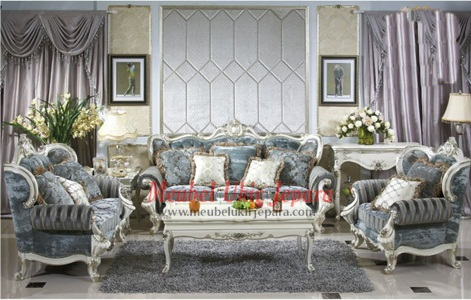Carving Chair: (140, 130, 336, 212), (10, 151, 130, 273), (351, 147, 467, 259)
Carving Table: (155, 197, 322, 279)
